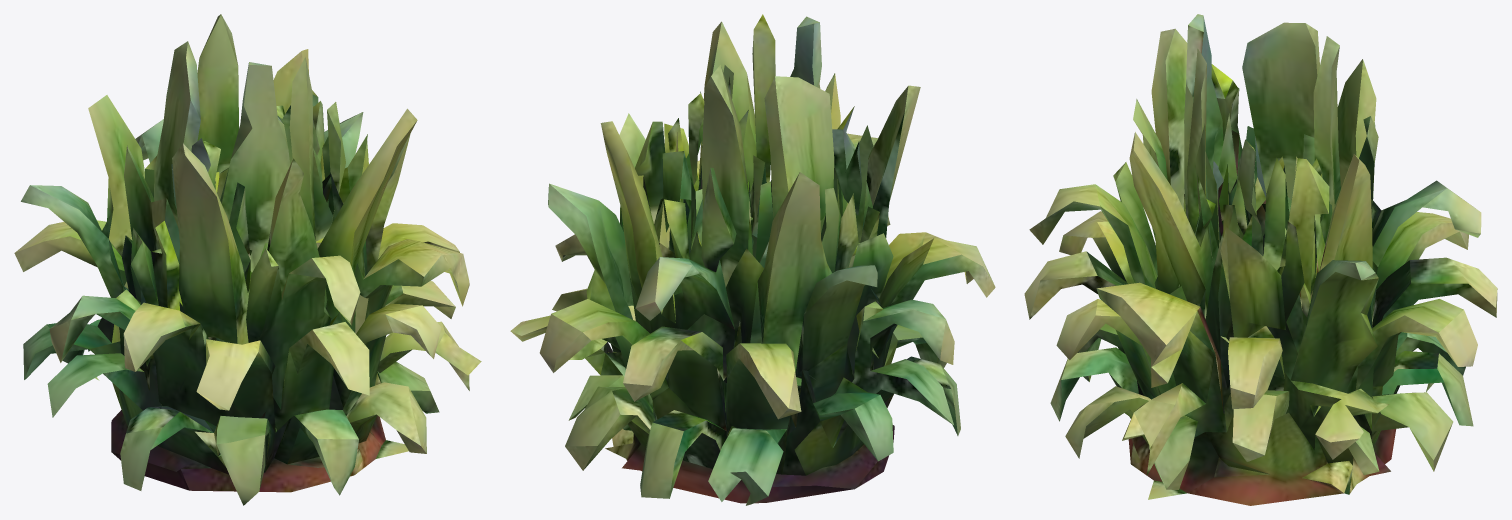
Rendered from grass_tuft.glb.
The picture shows the model from 3 angles, left to right: view 1: azimuth 30°, elevation 25°; view 2: azimuth 150°, elevation 25°; view 3: azimuth 270°, elevation 25°; orthographic projection. The views are drawn at different scales.
Parts seen in each view (by area): view 1: grass_tuft_s15; view 2: grass_tuft_s15; view 3: grass_tuft_s15.
Boxes of the visible parts, x1,y1,x2,y2 form: grass_tuft_s15: (14,14,481,505); grass_tuft_s15: (510,14,995,505); grass_tuft_s15: (1024,14,1497,505).
Bounding box in the file's own units: 0.9966 × 0.9671 × 1.
Materials: 1 (1 with a texture image).
